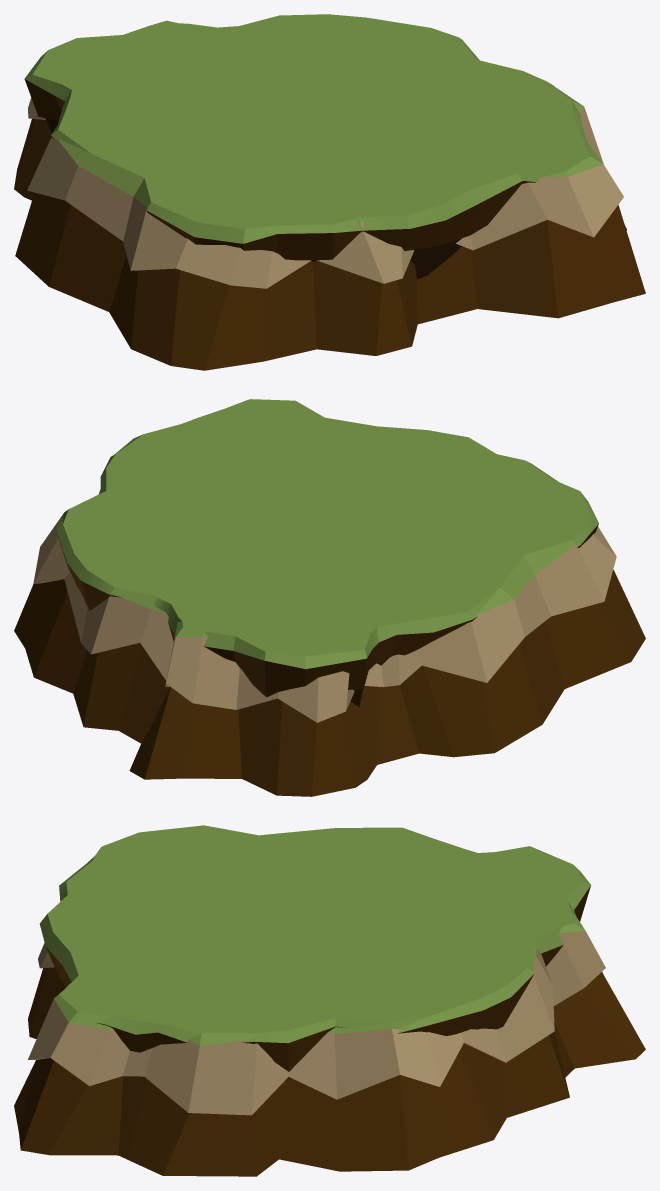
Rendered from Cliff.fbx.
3 renders of one model, top to bottom at view 1: azimuth 30°, elevation 25°; view 2: azimuth 150°, elevation 25°; view 3: azimuth 270°, elevation 25°, orthographic. The views are drawn at different scales.
Parts seen in each view (by area): view 1: Cliff; view 2: Cliff; view 3: Cliff.
Boxes of the visible parts, x1=… form: Cliff: x1=14, y1=14, x2=645, y2=370; Cliff: x1=14, y1=399, x2=645, y2=796; Cliff: x1=14, y1=825, x2=645, y2=1176.
Bounding box in the file's own units: 64.97 × 15.47 × 70.75.
